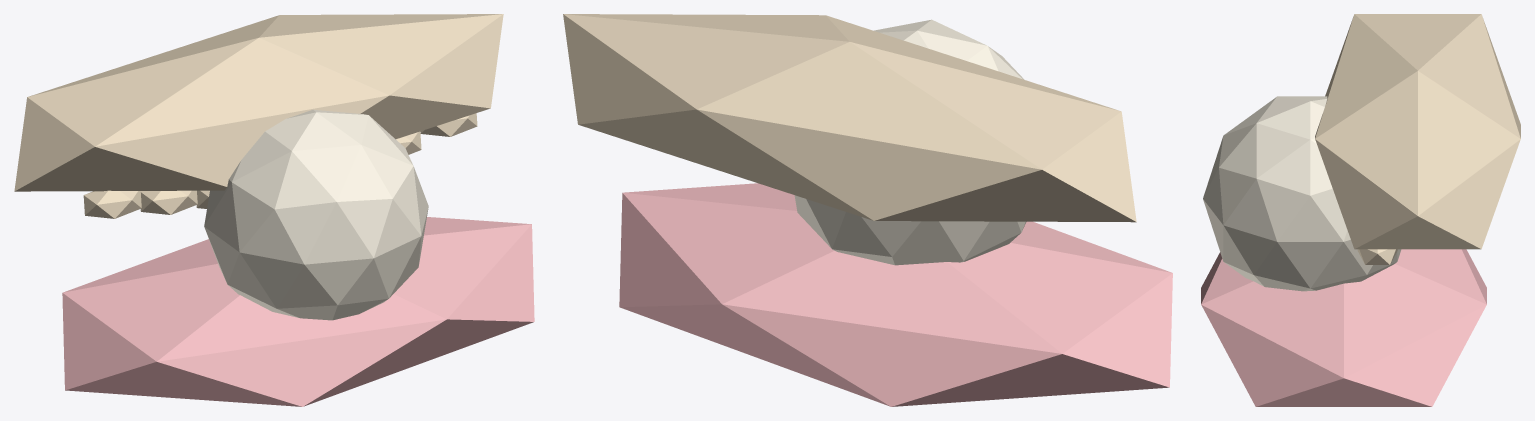
Rendered from pearl-clam.glb.
The picture shows the model from 3 angles, left to right: view 1: azimuth 30°, elevation 25°; view 2: azimuth 150°, elevation 25°; view 3: azimuth 270°, elevation 25°; orthographic projection. The views are drawn at different scales.
Visible parts, largest first — view 1: upper open clam, lower pink clam, large white pearl, clam rim tooth, clam rim tooth.001, clam rim tooth.006; view 2: upper open clam, lower pink clam, large white pearl; view 3: upper open clam, lower pink clam, large white pearl, clam rim tooth.006.
Boxes of the visible parts, bbox=[...] form: upper open clam: bbox=[14, 14, 503, 191]; lower pink clam: bbox=[62, 217, 534, 406]; large white pearl: bbox=[204, 109, 428, 320]; clam rim tooth: bbox=[83, 190, 141, 218]; clam rim tooth.001: bbox=[140, 190, 197, 214]; clam rim tooth.006: bbox=[420, 113, 477, 136]; upper open clam: bbox=[563, 14, 1136, 222]; lower pink clam: bbox=[619, 183, 1172, 406]; large white pearl: bbox=[794, 19, 1026, 265]; upper open clam: bbox=[1315, 14, 1520, 249]; lower pink clam: bbox=[1201, 249, 1486, 406]; large white pearl: bbox=[1203, 96, 1401, 291]; clam rim tooth.006: bbox=[1357, 249, 1397, 264].
Size of the model in its own units: 0.7871 by 0.46 by 0.4758.
